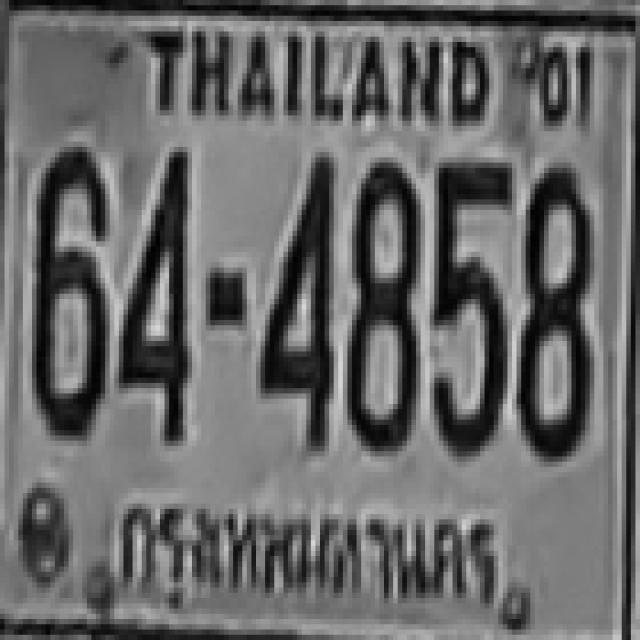0: (347, 157, 416, 299), (521, 163, 590, 304)
4: (114, 142, 188, 440), (256, 147, 329, 446), (254, 147, 331, 388)
8: (512, 162, 585, 456), (343, 157, 416, 446)
Bangkok: (107, 491, 516, 613)
